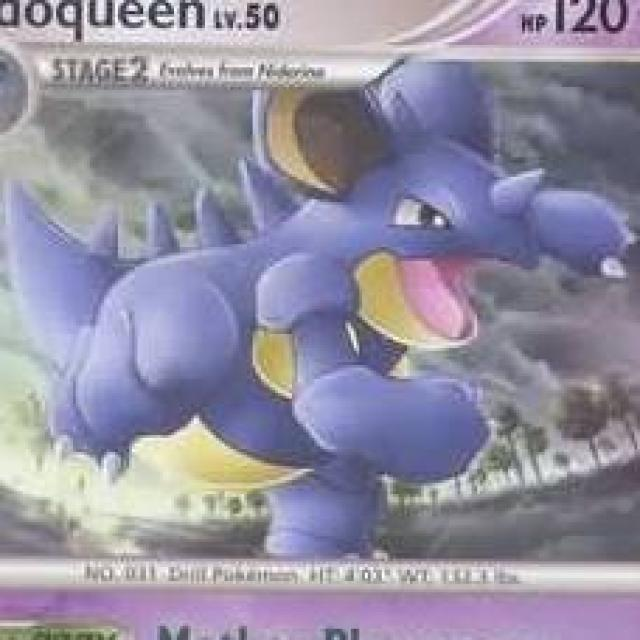Nidoqueen: (61, 84, 563, 539)
